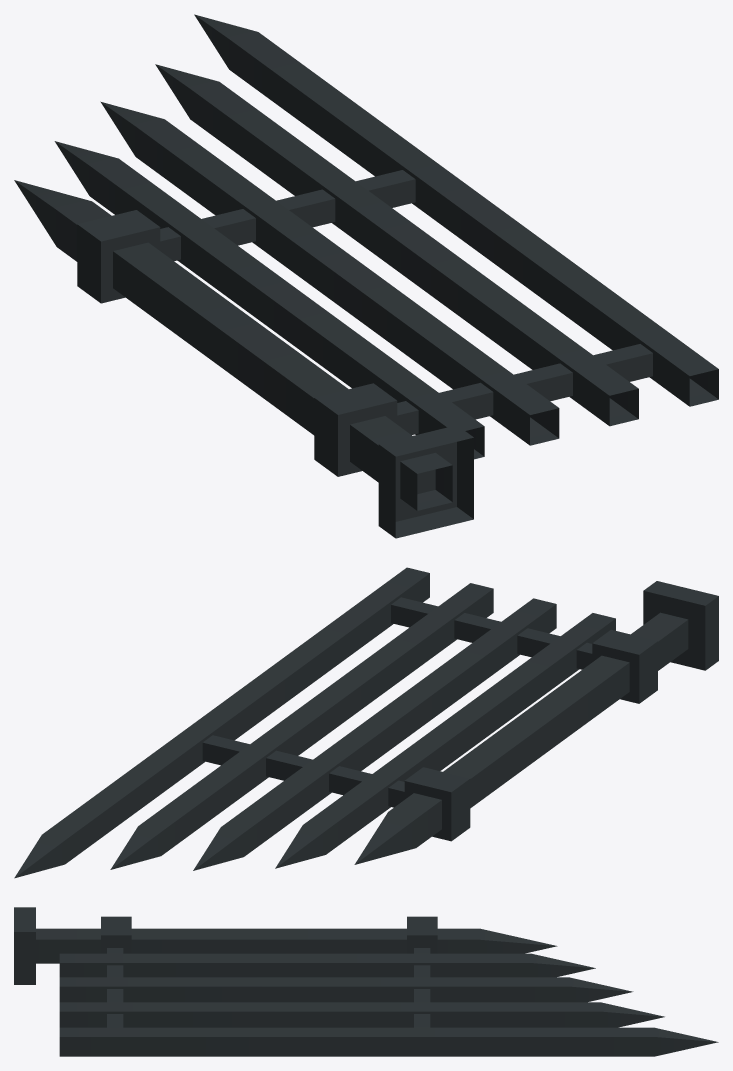
The model's file is Metal Gate 01.FBX.
3 renders of one model, top to bottom at view 1: azimuth 30°, elevation 25°; view 2: azimuth 150°, elevation 25°; view 3: azimuth 270°, elevation 25°, orthographic. The views are drawn at different scales.
Visible parts, largest first — view 1: Metal Gate 01, Metal Gate Pole 01; view 2: Metal Gate 01, Metal Gate Pole 01; view 3: Metal Gate 01, Metal Gate Pole 01.
Boxes of the visible parts, left/top/right/bottom form: Metal Gate 01: left=54, top=14, right=718, bottom=476; Metal Gate Pole 01: left=14, top=180, right=473, bottom=538; Metal Gate 01: left=14, top=567, right=657, bottom=878; Metal Gate Pole 01: left=354, top=581, right=718, bottom=864; Metal Gate 01: left=59, top=916, right=718, bottom=1056; Metal Gate Pole 01: left=14, top=907, right=557, bottom=984.
Bounding box in the file's own units: 155 × 33.96 × 410.
